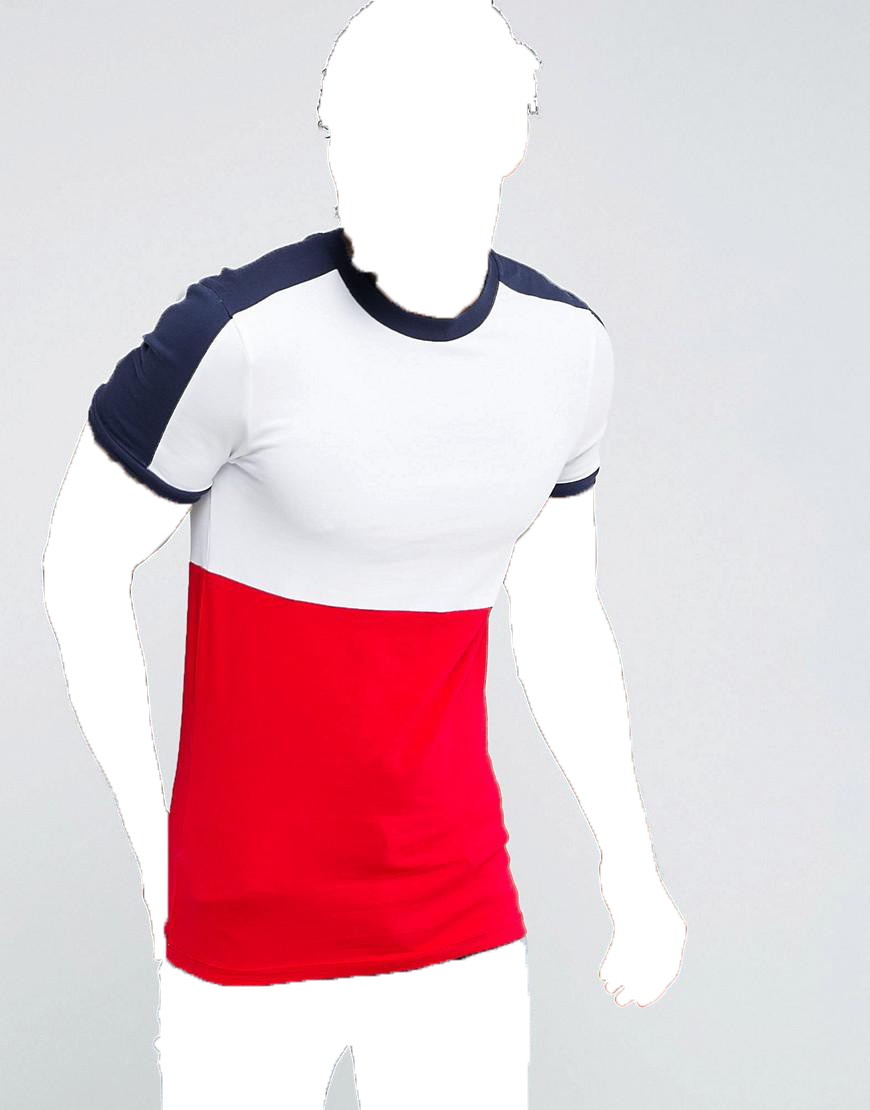teeshirt: (81, 222, 613, 990)
